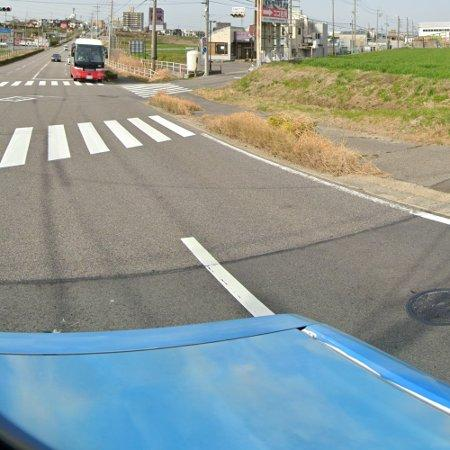crosswalks: (1, 113, 197, 169)
